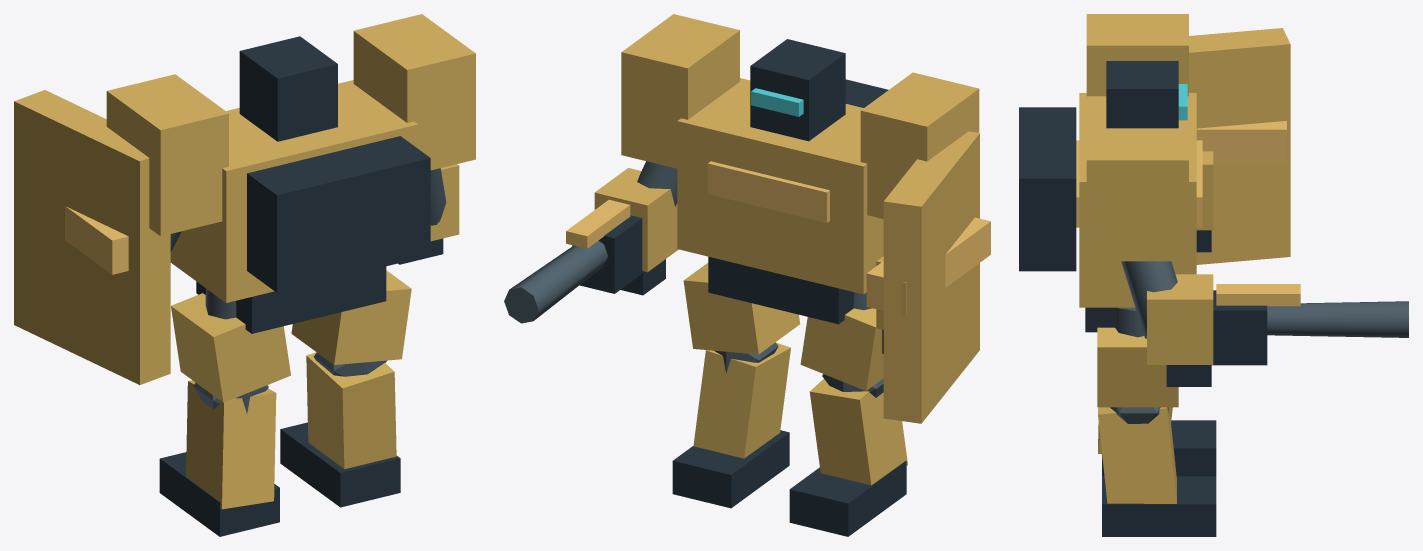
File: frame-napoleon.glb
3 views of the same model, side by side, from view 1: azimuth 30°, elevation 25°; view 2: azimuth 150°, elevation 25°; view 3: azimuth 270°, elevation 25° (orthographic). The views are drawn at different scales.
Parts seen in each view (by area): view 1: frame-napoleon; view 2: frame-napoleon; view 3: frame-napoleon.
Boxes of the visible parts, bbox=[...] form: frame-napoleon: bbox=[14, 14, 475, 536]; frame-napoleon: bbox=[504, 14, 990, 536]; frame-napoleon: bbox=[1019, 14, 1408, 536].
Size of the model in its own units: 1.36 by 1.54 by 1.29.
